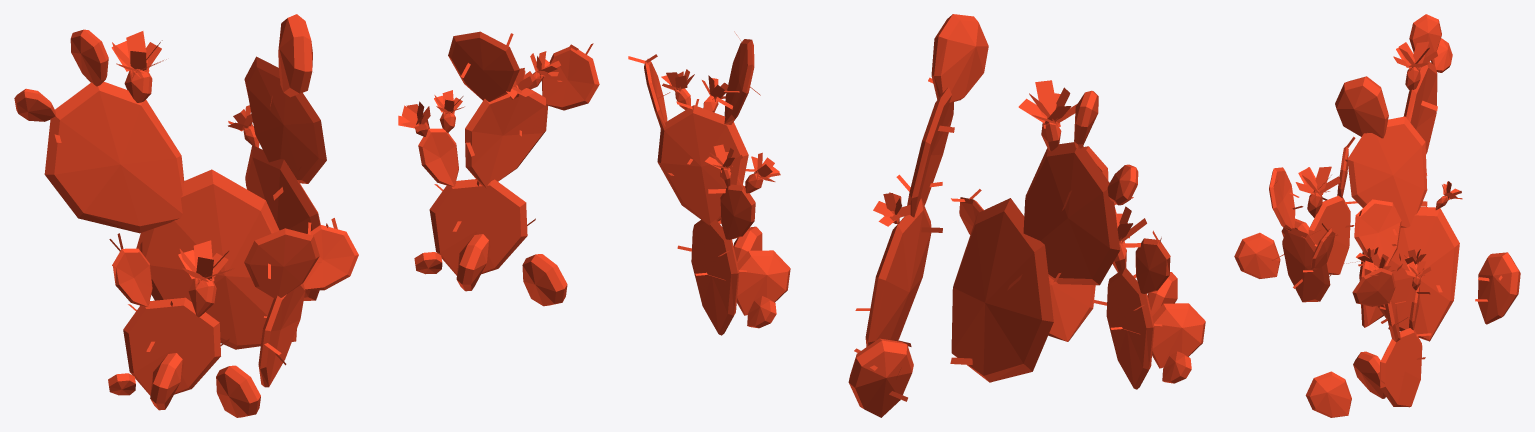
The model's file is SM_Succulent_Opuntia_C.fbx.
3 renders of one model, left to right at view 1: azimuth 30°, elevation 25°; view 2: azimuth 150°, elevation 25°; view 3: azimuth 270°, elevation 25°, orthographic. The views are drawn at different scales.
Parts seen in each view (by area): view 1: SM_Succulent_Opuntia_C; view 2: SM_Succulent_Opuntia_C; view 3: SM_Succulent_Opuntia_C.
Boxes of the visible parts, left/top/right/bottom form: SM_Succulent_Opuntia_C: left=14, top=14, right=599, bottom=417; SM_Succulent_Opuntia_C: left=628, top=14, right=1205, bottom=417; SM_Succulent_Opuntia_C: left=1234, top=14, right=1520, bottom=417.
Size of the model in its own units: 1.76 by 1.06 by 1.07.
